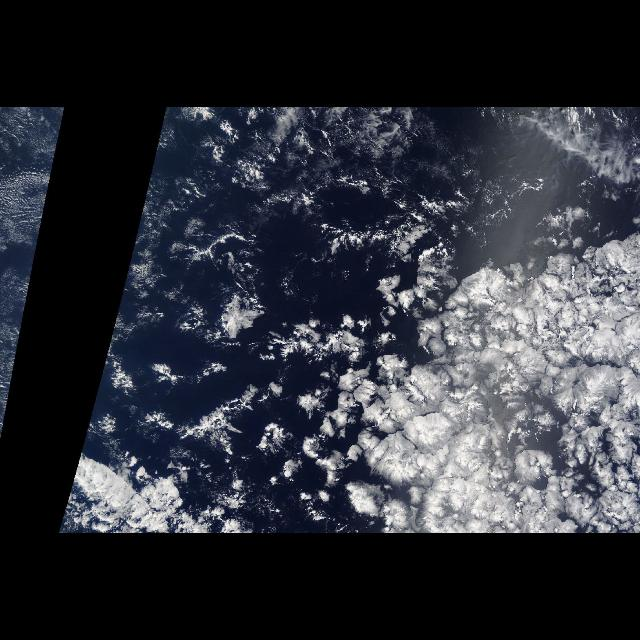Flower: (155, 157, 640, 533)
Gravel: (184, 120, 394, 280)
Sugar: (2, 118, 66, 394)
